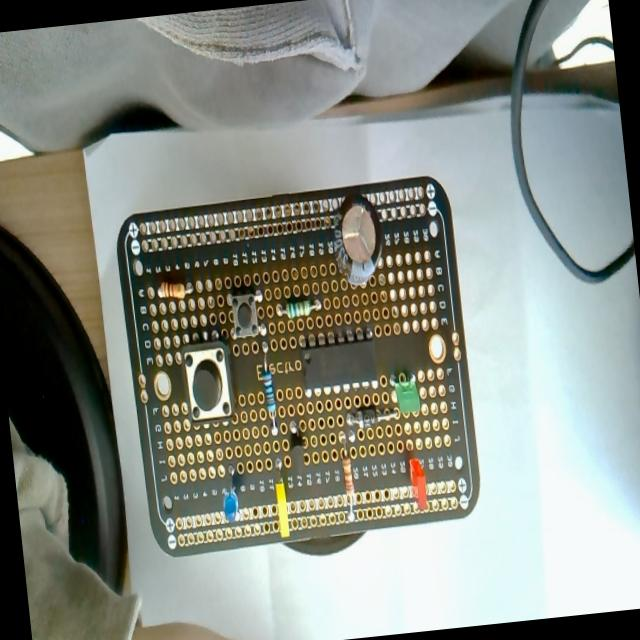Electrolytic capacitor: (324, 186, 388, 299)
IC: (292, 318, 383, 402)
led: (269, 442, 294, 536), (400, 439, 430, 516), (218, 461, 245, 529), (386, 378, 424, 412)
resistor: (334, 438, 360, 526), (258, 350, 282, 440), (271, 285, 327, 322), (150, 271, 198, 306)
switch: (181, 330, 237, 433), (225, 288, 262, 344)
transistor: (284, 414, 310, 468)
